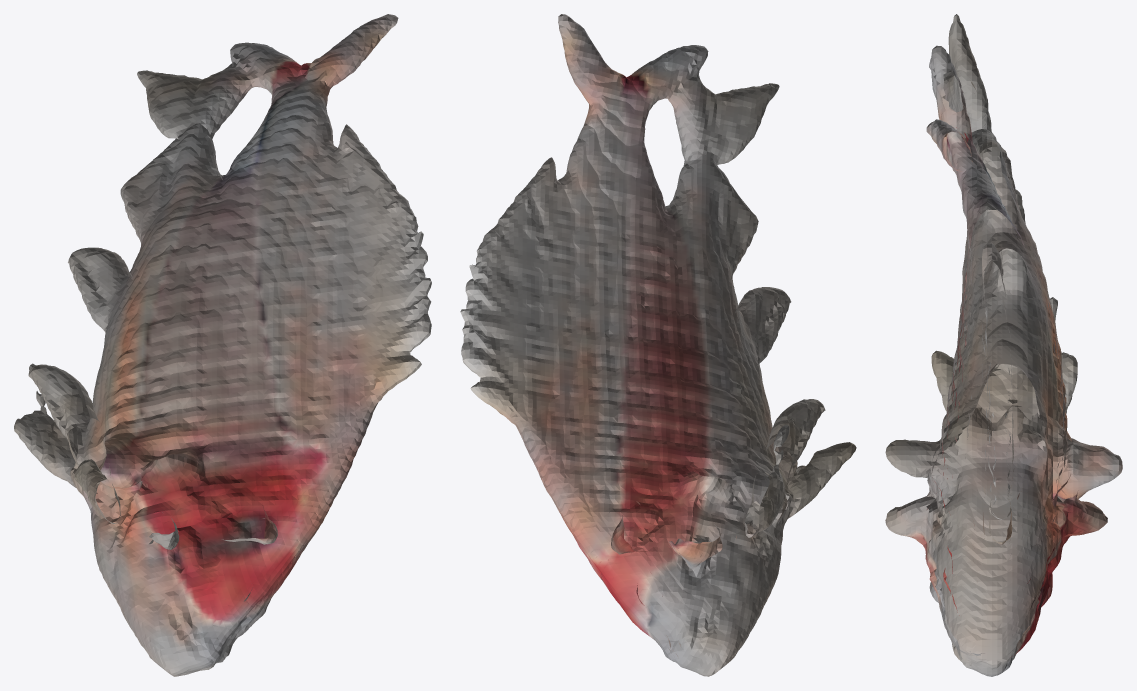
File: neon-tetra.glb
3 renders of one model, left to right at view 1: azimuth 30°, elevation 25°; view 2: azimuth 150°, elevation 25°; view 3: azimuth 270°, elevation 25°, orthographic. The views are drawn at different scales.
Visible parts, largest first — view 1: world; view 2: world; view 3: world.
Boxes of the visible parts, <box> form: world: <box>14,14,431,676</box>; world: <box>460,14,856,676</box>; world: <box>885,14,1122,676</box>.
Bounding box in the file's own units: 0.6088 × 0.9449 × 0.3199.
